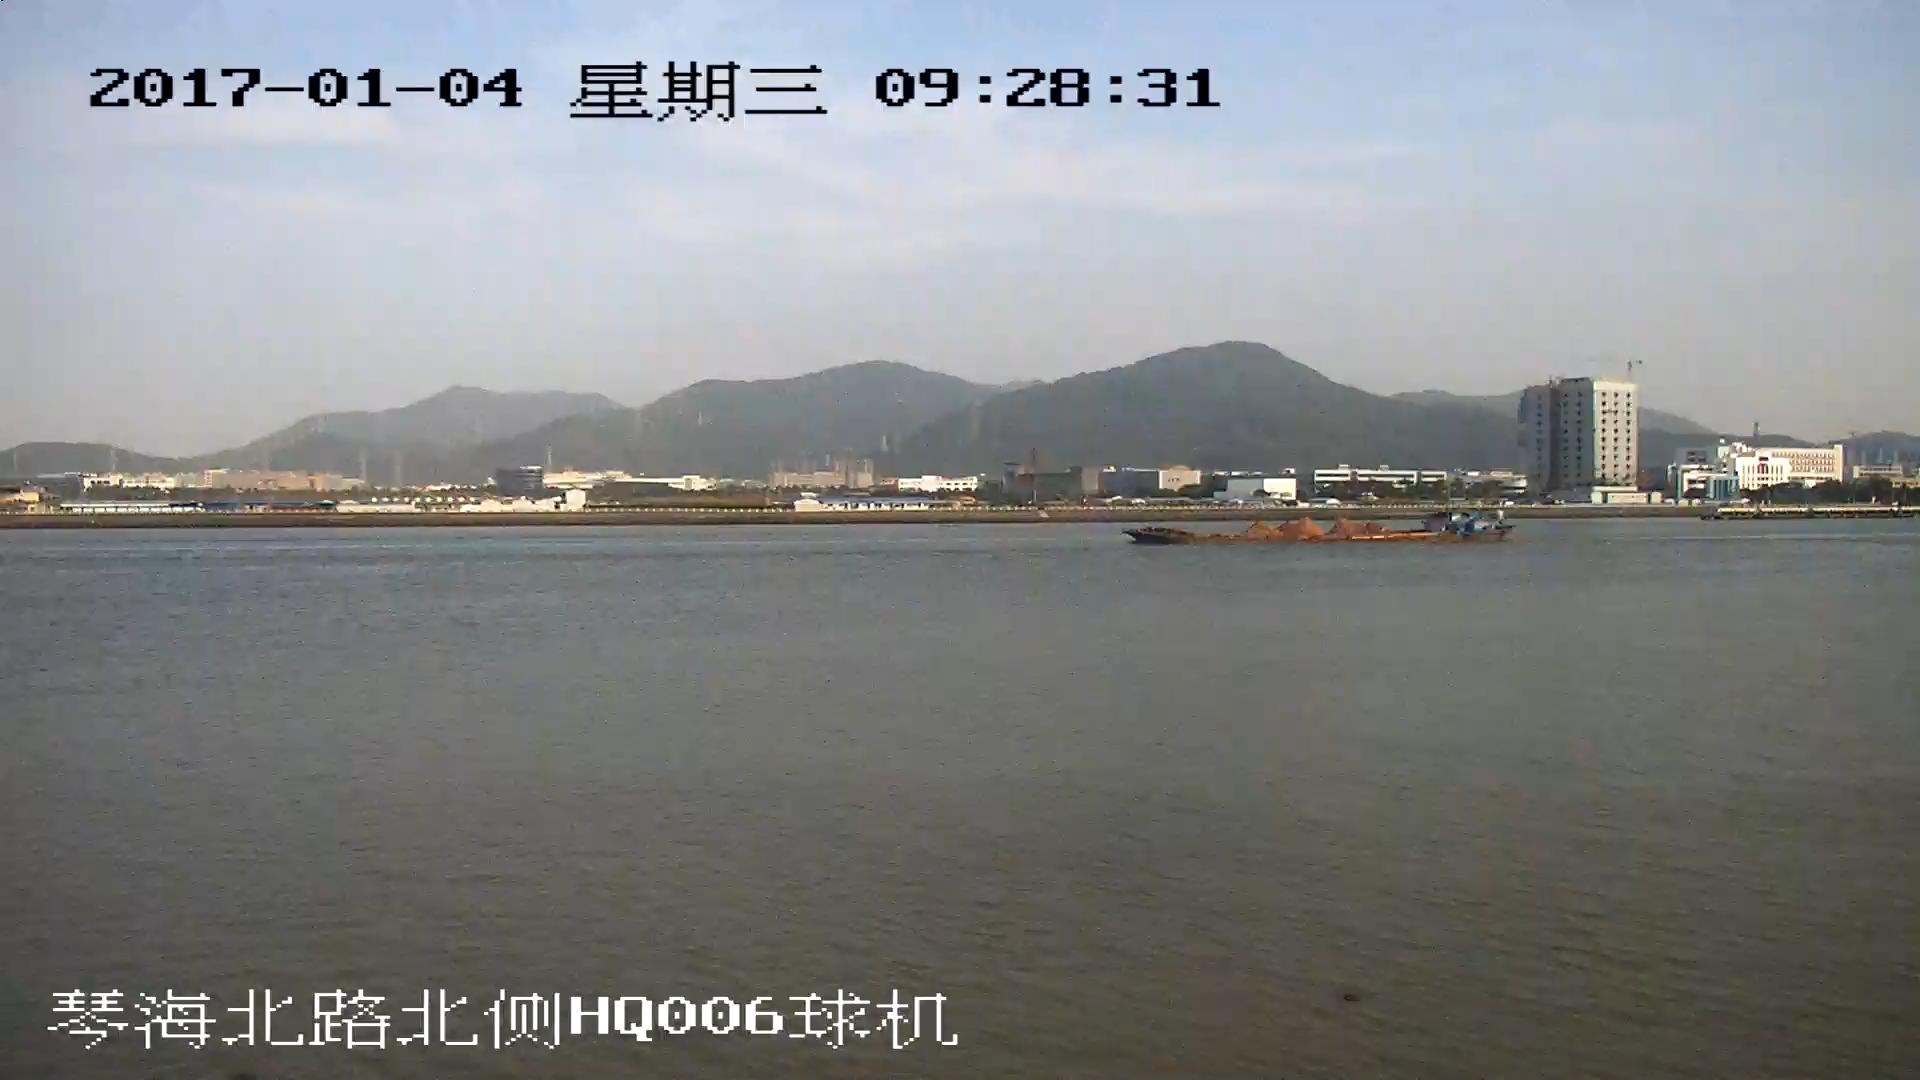ore carrier: (1126, 514, 1503, 548)
